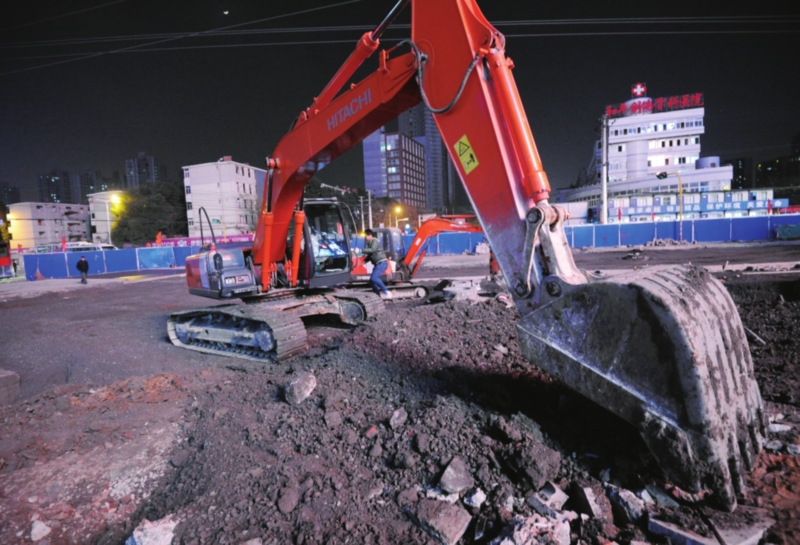excavator: (158, 3, 776, 514)
